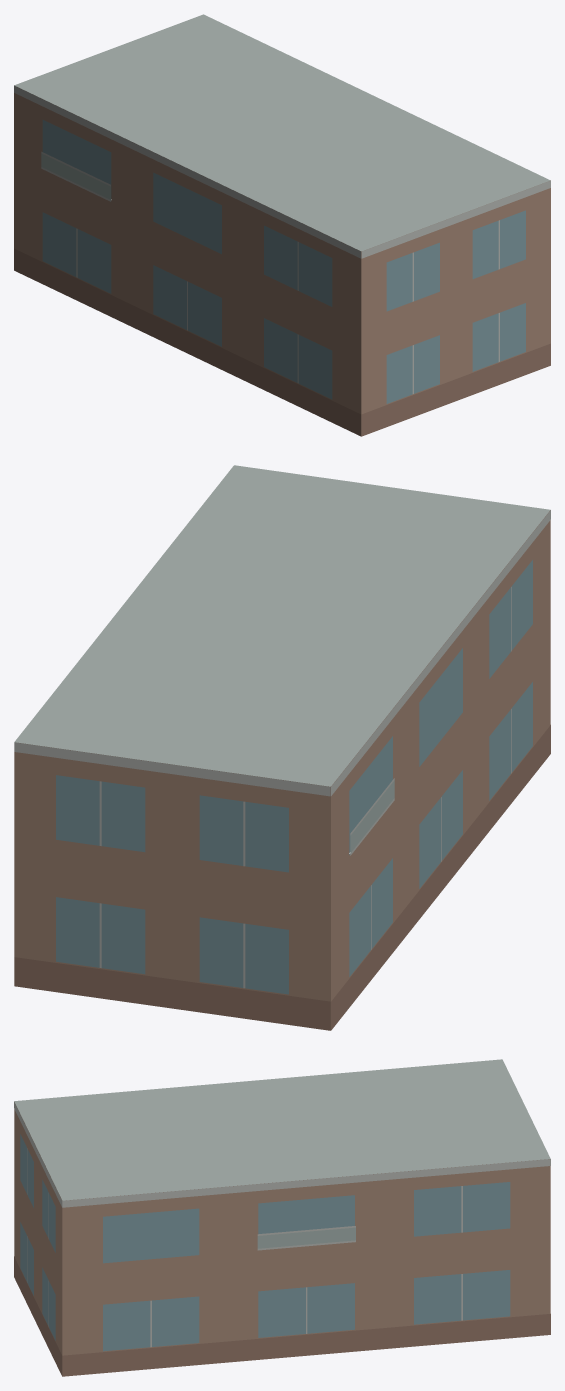
The model's file is survey-upis-32709152.glb.
The picture shows the model from 3 angles, top to bottom: view 1: azimuth 30°, elevation 25°; view 2: azimuth 150°, elevation 25°; view 3: azimuth 270°, elevation 25°; orthographic projection. The views are drawn at different scales.
Parts seen in each view (by area): view 1: survey-upis-32709152.tmp; view 2: survey-upis-32709152.tmp; view 3: survey-upis-32709152.tmp.
Boxes of the visible parts, left/top/right/bottom form: survey-upis-32709152.tmp: left=14, top=14, right=550, bottom=436; survey-upis-32709152.tmp: left=14, top=465, right=550, bottom=1030; survey-upis-32709152.tmp: left=14, top=1059, right=550, bottom=1376.
Size of the model in its own units: 10.53 by 6.1 by 16.88.
